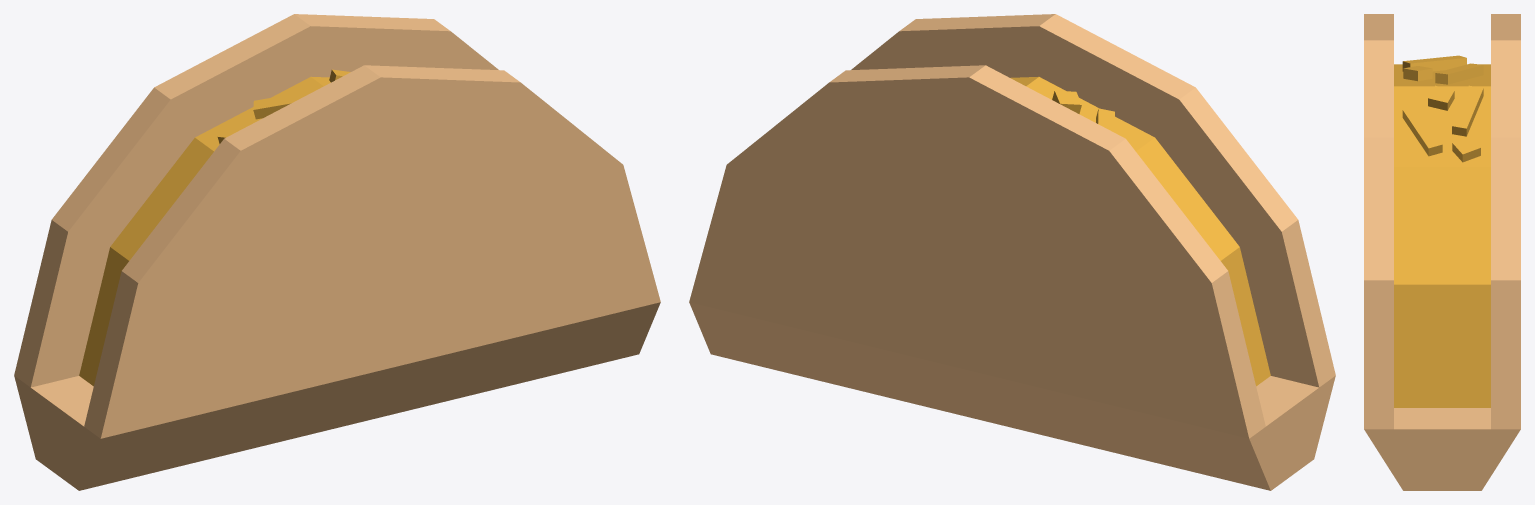
Rendered from taco.fbx.
The picture shows the model from 3 angles, left to right: view 1: azimuth 30°, elevation 25°; view 2: azimuth 150°, elevation 25°; view 3: azimuth 270°, elevation 25°; orthographic projection. The views are drawn at different scales.
Visible parts, largest first — view 1: taco; view 2: taco; view 3: taco.
Part boxes in pixels (x1,y1,x2,y2): taco: (14,14,660,490); taco: (689,14,1335,490); taco: (1364,14,1520,490).
Bounding box in the file's own units: 4.26 × 2.62 × 1.14.
